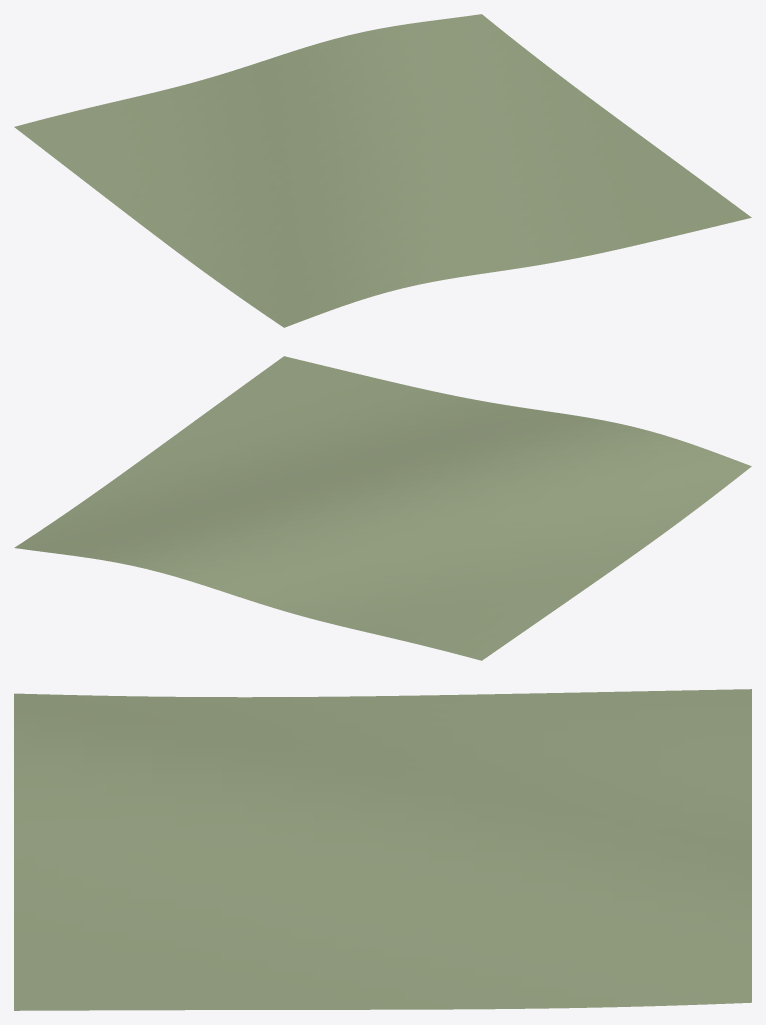
Rendered from desert-10-8.glb.
3 renders of one model, top to bottom at view 1: azimuth 30°, elevation 25°; view 2: azimuth 150°, elevation 25°; view 3: azimuth 270°, elevation 25°, orthographic. The views are drawn at different scales.
Visible parts, largest first — view 1: desert-10-8; view 2: desert-10-8; view 3: desert-10-8.
Part boxes in pixels (x1=…): desert-10-8: x1=14, y1=14, x2=751, y2=327; desert-10-8: x1=14, y1=356, x2=751, y2=660; desert-10-8: x1=14, y1=689, x2=751, y2=1010.
Size of the model in its own units: 512 by 18.34 by 512.
